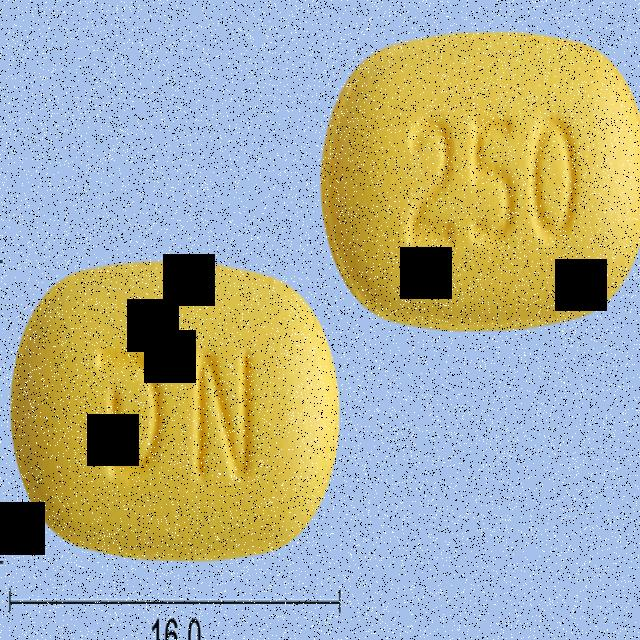Clamycin: (6, 255, 347, 569), (318, 26, 640, 337)
